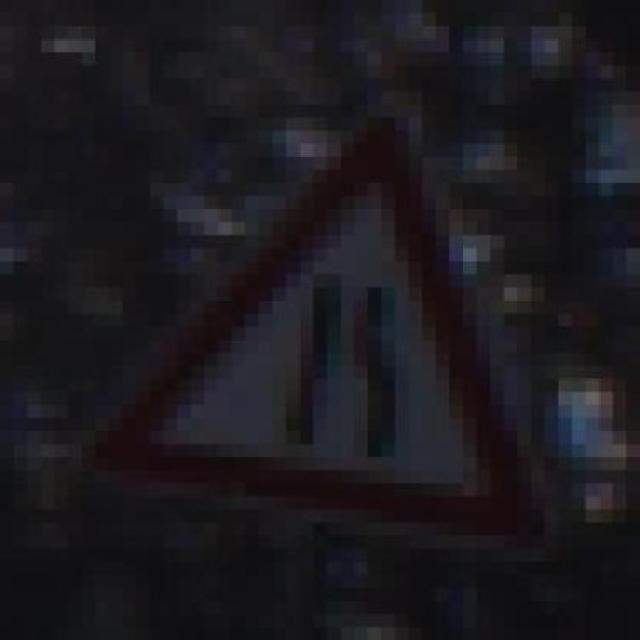-Road narrows on right: (82, 104, 586, 548)
